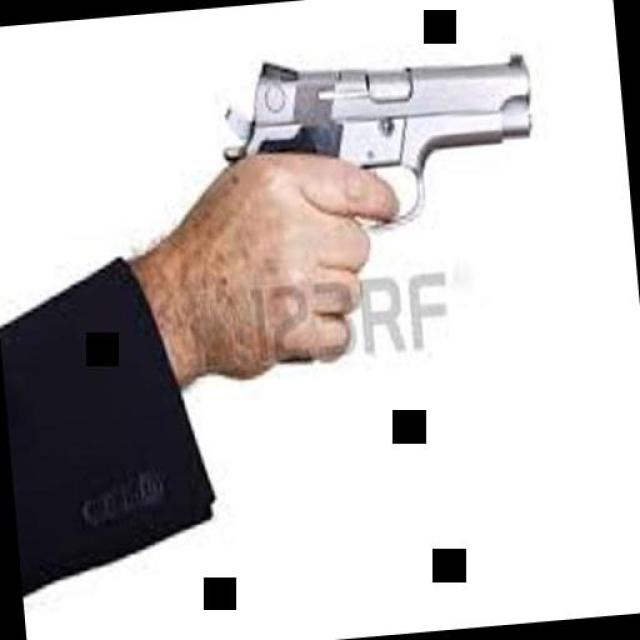gun: (208, 36, 542, 248)
